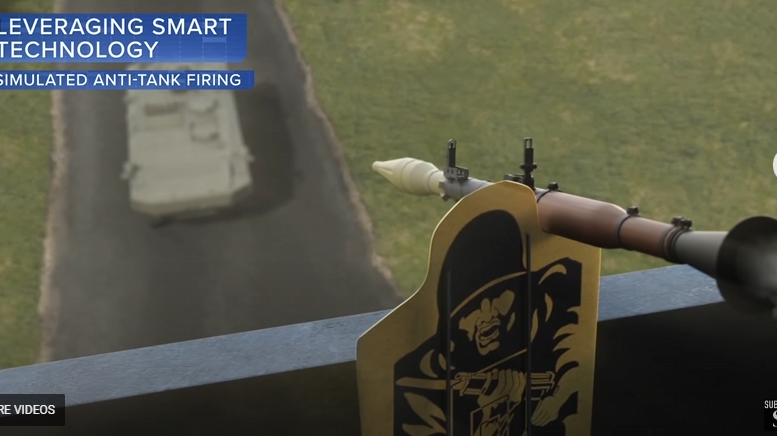HVT1: (355, 181, 598, 436)
